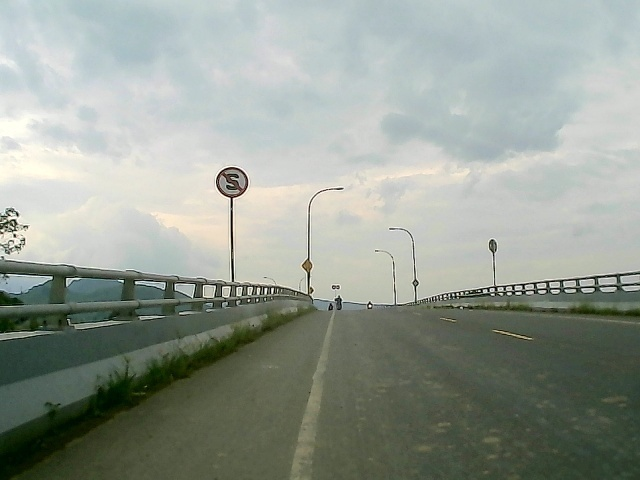Dilarang berhenti: (214, 166, 250, 200)
